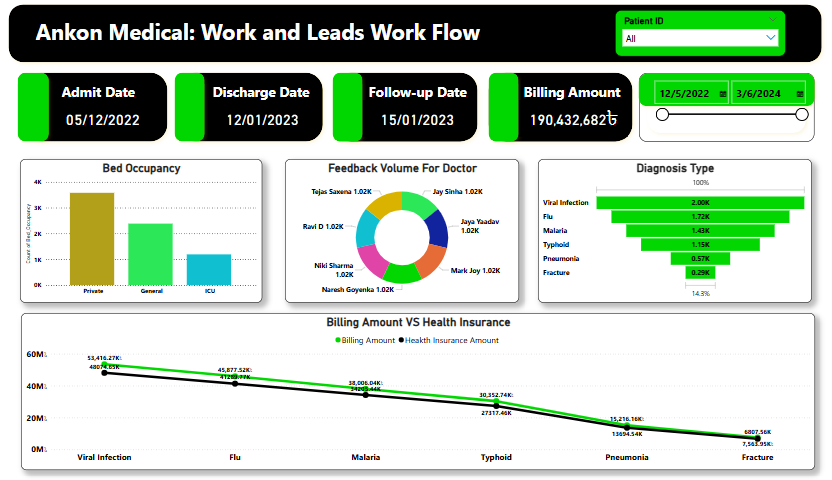

The dashboard page shown, as its layout file describes it:
{"tool":"powerbi","page":{"name":"Page 1","canvas":[1650,950],"ordinal":0},"visuals":[{"type":"shape","box":[18.6,0,1616.3,134.9],"z":0},{"type":"textbox","box":[76.6,29.8,974.5,72.3],"z":1000},{"type":"shape","box":[50,133.3,300,157.1],"z":2000},{"type":"shape","box":[350,133.3,304.8,157.1],"z":3000},{"type":"shape","box":[1265.1,144.2,344.2,134.9],"z":4000},{"type":"shape","box":[35.7,133.3,83.3,157.1],"z":5000},{"type":"shape","box":[342.9,133.3,81,157.1],"z":6000},{"type":"shape","box":[1253.5,134.9,367.4,86],"z":7000},{"type":"slicer","fields":{"Values":["Sheet1.Patient_ID"]},"box":[1218.6,20.9,334.9,90.7],"z":8000},{"type":"card","fields":{"Values":["Min(Sheet1.Admit_Date)"]},"box":[119.1,197.9,187.2,72.3],"z":9000},{"type":"textbox","box":[127.7,159.6,172.3,53.2],"z":10000},{"type":"card","fields":{"Values":["Min(Sheet1.Discharge_Date)"]},"box":[419.1,197.9,212.8,72.3],"z":11000},{"type":"textbox","box":[423.4,159.6,210.6,53.2],"z":12000},{"type":"shape","box":[655.3,134,304.3,157.4],"z":13000},{"type":"shape","box":[653.2,134,80.9,157.4],"z":14000},{"type":"textbox","box":[729.8,159.6,210.6,53.2],"z":15000},{"type":"card","fields":{"Values":["Min(Sheet1.Followup Date)"]},"box":[723.4,197.9,212.8,72.3],"z":16000},{"type":"shape","box":[959.6,134,304.3,157.4],"z":17000},{"type":"shape","box":[959.6,134,80.9,157.4],"z":18000},{"type":"textbox","box":[1034,159.6,210.6,53.2],"z":19000},{"type":"card","fields":{"Values":["Sum(Sheet1.Billing Amount)"]},"box":[1029.8,197.9,212.8,72.3],"z":20000},{"type":"slicer","fields":{"Values":["Sheet1.Admit_Date"]},"box":[1281.4,134.9,323.3,125.6],"z":21000},{"type":"columnChart","title":"Bed Occupancy","fields":{"Category":["Sheet1.Bed_Occupancy"],"Y":["CountNonNull(Sheet1.Bed_Occupancy)"]},"box":[51,313.7,474.5,282.4],"z":22000},{"type":"donutChart","title":"Feedback Volume For Doctor","fields":{"Category":["Sheet1.Doctor"],"Y":["CountNonNull(Sheet1.Doctor)"]},"box":[570.6,313.7,458.8,282.4],"z":23000},{"type":"funnel","title":"Diagnosis Type","fields":{"Category":["Sheet1.Diagnosis"],"Y":["CountNonNull(Sheet1.Diagnosis)"]},"box":[1066.7,313.7,537.3,282.4],"z":24000},{"type":"lineChart","title":"Billing Amount VS Health Insurance","fields":{"Y":["Sum(Sheet1.Billing Amount)","Sum(Sheet1.Health Insurance Amount)"],"Category":["Sheet1.Diagnosis"]},"box":[52.9,615.7,1556.9,307.8],"z":25000}]}

Visuals, with their boxes in screenshot pixels (x1, y1, x2, y2), scaled from the page's 1650x950 canvas onto the 832x480 screenshot:
shape: (9, 0, 824, 68)
textbox: (39, 15, 530, 52)
shape: (25, 67, 176, 147)
shape: (176, 67, 330, 147)
shape: (638, 73, 811, 141)
shape: (18, 67, 60, 147)
shape: (173, 67, 214, 147)
shape: (632, 68, 817, 112)
slicer - Sheet1.Patient_ID: (614, 11, 783, 56)
card - Min(Sheet1.Admit_Date): (60, 100, 154, 137)
textbox: (64, 81, 151, 108)
card - Min(Sheet1.Discharge_Date): (211, 100, 319, 137)
textbox: (213, 81, 320, 108)
shape: (330, 68, 484, 147)
shape: (329, 68, 370, 147)
textbox: (368, 81, 474, 108)
card - Min(Sheet1.Followup Date): (365, 100, 472, 137)
shape: (484, 68, 637, 147)
shape: (484, 68, 525, 147)
textbox: (521, 81, 628, 108)
card - Sum(Sheet1.Billing Amount): (519, 100, 627, 137)
slicer - Sheet1.Admit_Date: (646, 68, 809, 132)
"Bed Occupancy" columnChart: (26, 159, 265, 301)
"Feedback Volume For Doctor" donutChart: (288, 159, 519, 301)
"Diagnosis Type" funnel: (538, 159, 809, 301)
"Billing Amount VS Health Insurance" lineChart: (27, 311, 812, 467)
